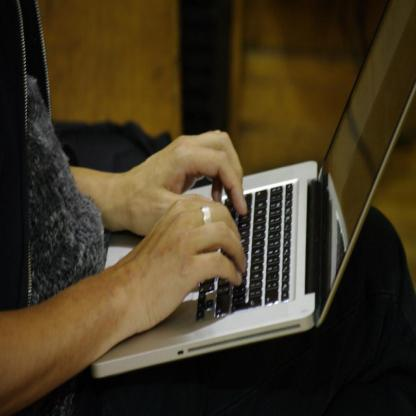board: (92, 1, 416, 379)
